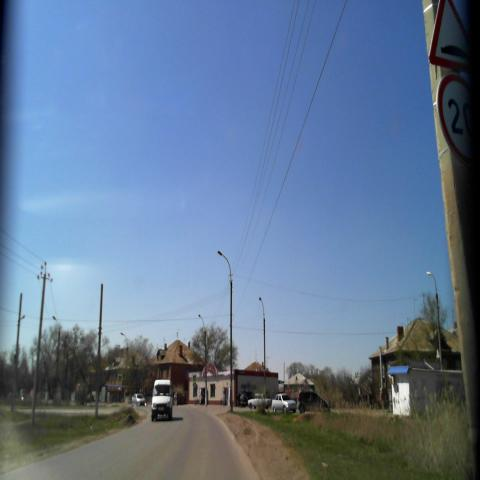1_17: (428, 0, 480, 72)
